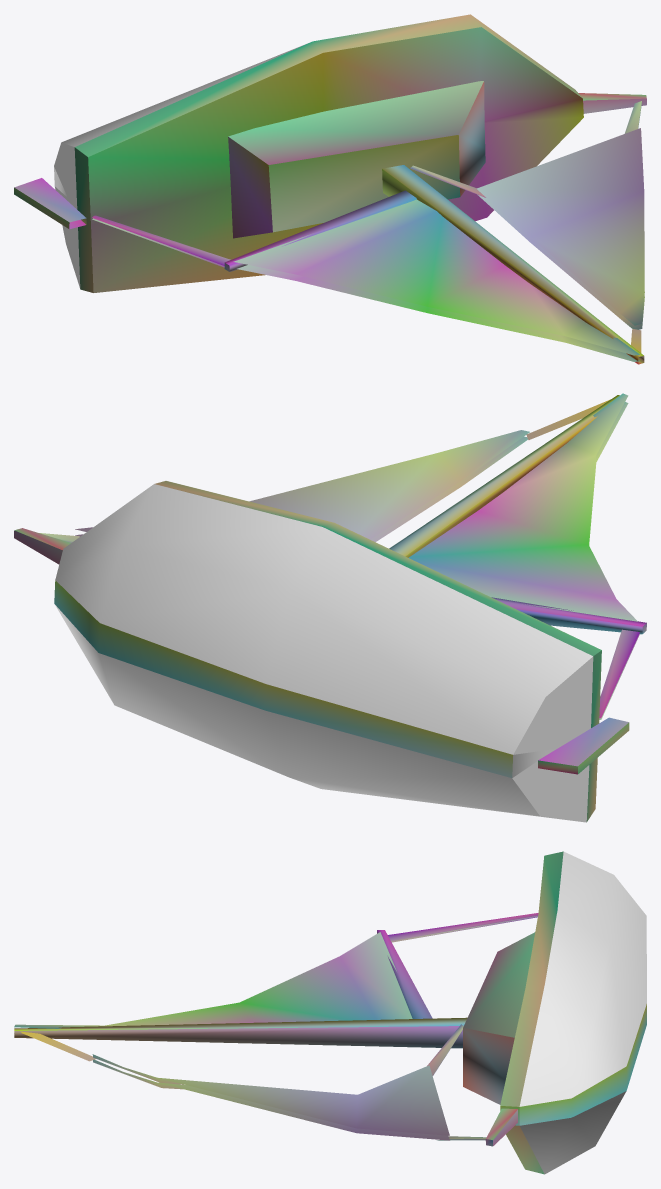
The model's file is Boat_Village_Sailing_lod1.glb.
The picture shows the model from 3 angles, top to bottom: view 1: azimuth 30°, elevation 25°; view 2: azimuth 150°, elevation 25°; view 3: azimuth 270°, elevation 25°; orthographic projection. The views are drawn at different scales.
Parts seen in each view (by area): view 1: MeshNode_0, MeshNode_1; view 2: MeshNode_1, MeshNode_0; view 3: MeshNode_0, MeshNode_1.
Boxes of the visible parts, x1,y1,x2,y2 form: MeshNode_0: (14,14,646,364); MeshNode_1: (54,43,307,288); MeshNode_1: (55,484,593,822); MeshNode_0: (14,393,646,821); MeshNode_0: (14,851,646,1174); MeshNode_1: (519,852,646,1174).
Bounding box in the file's own units: 36.35 × 13.99 × 38.43.
